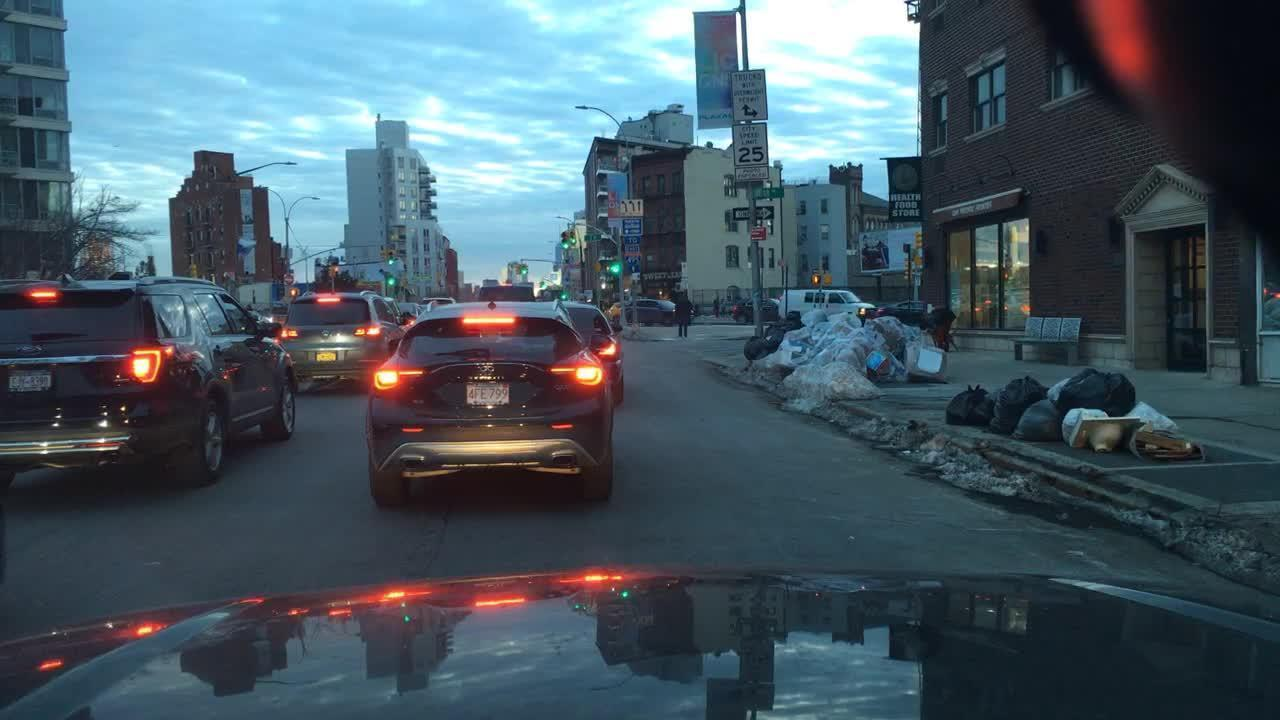Infiniti: (475, 362, 500, 375)
ford: (14, 342, 44, 358)
